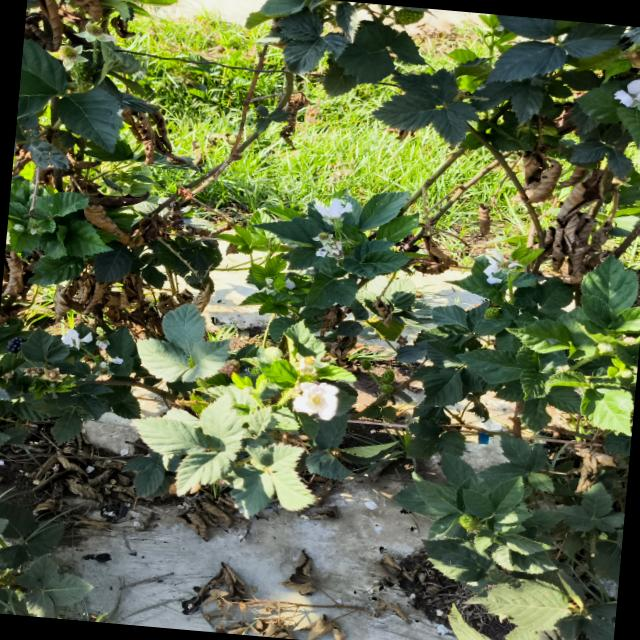flor: (293, 381, 339, 420), (484, 250, 520, 283), (314, 198, 351, 223), (613, 79, 640, 109)
